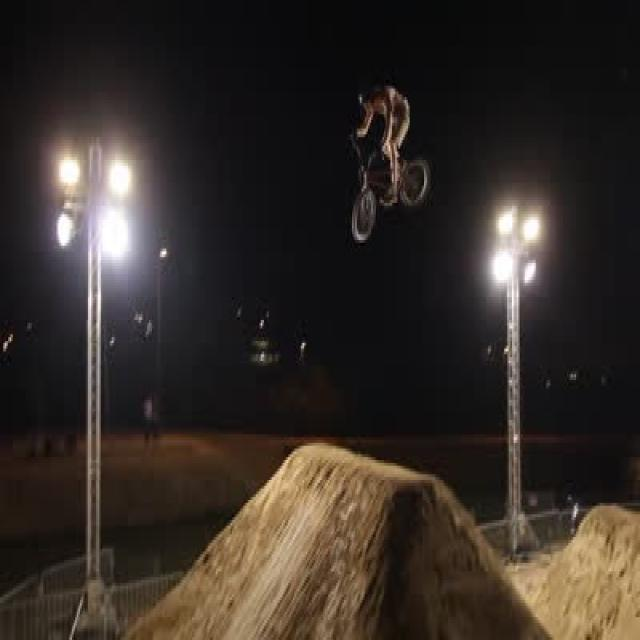Bicycle: (328, 151, 446, 257)
People: (352, 67, 428, 152)
